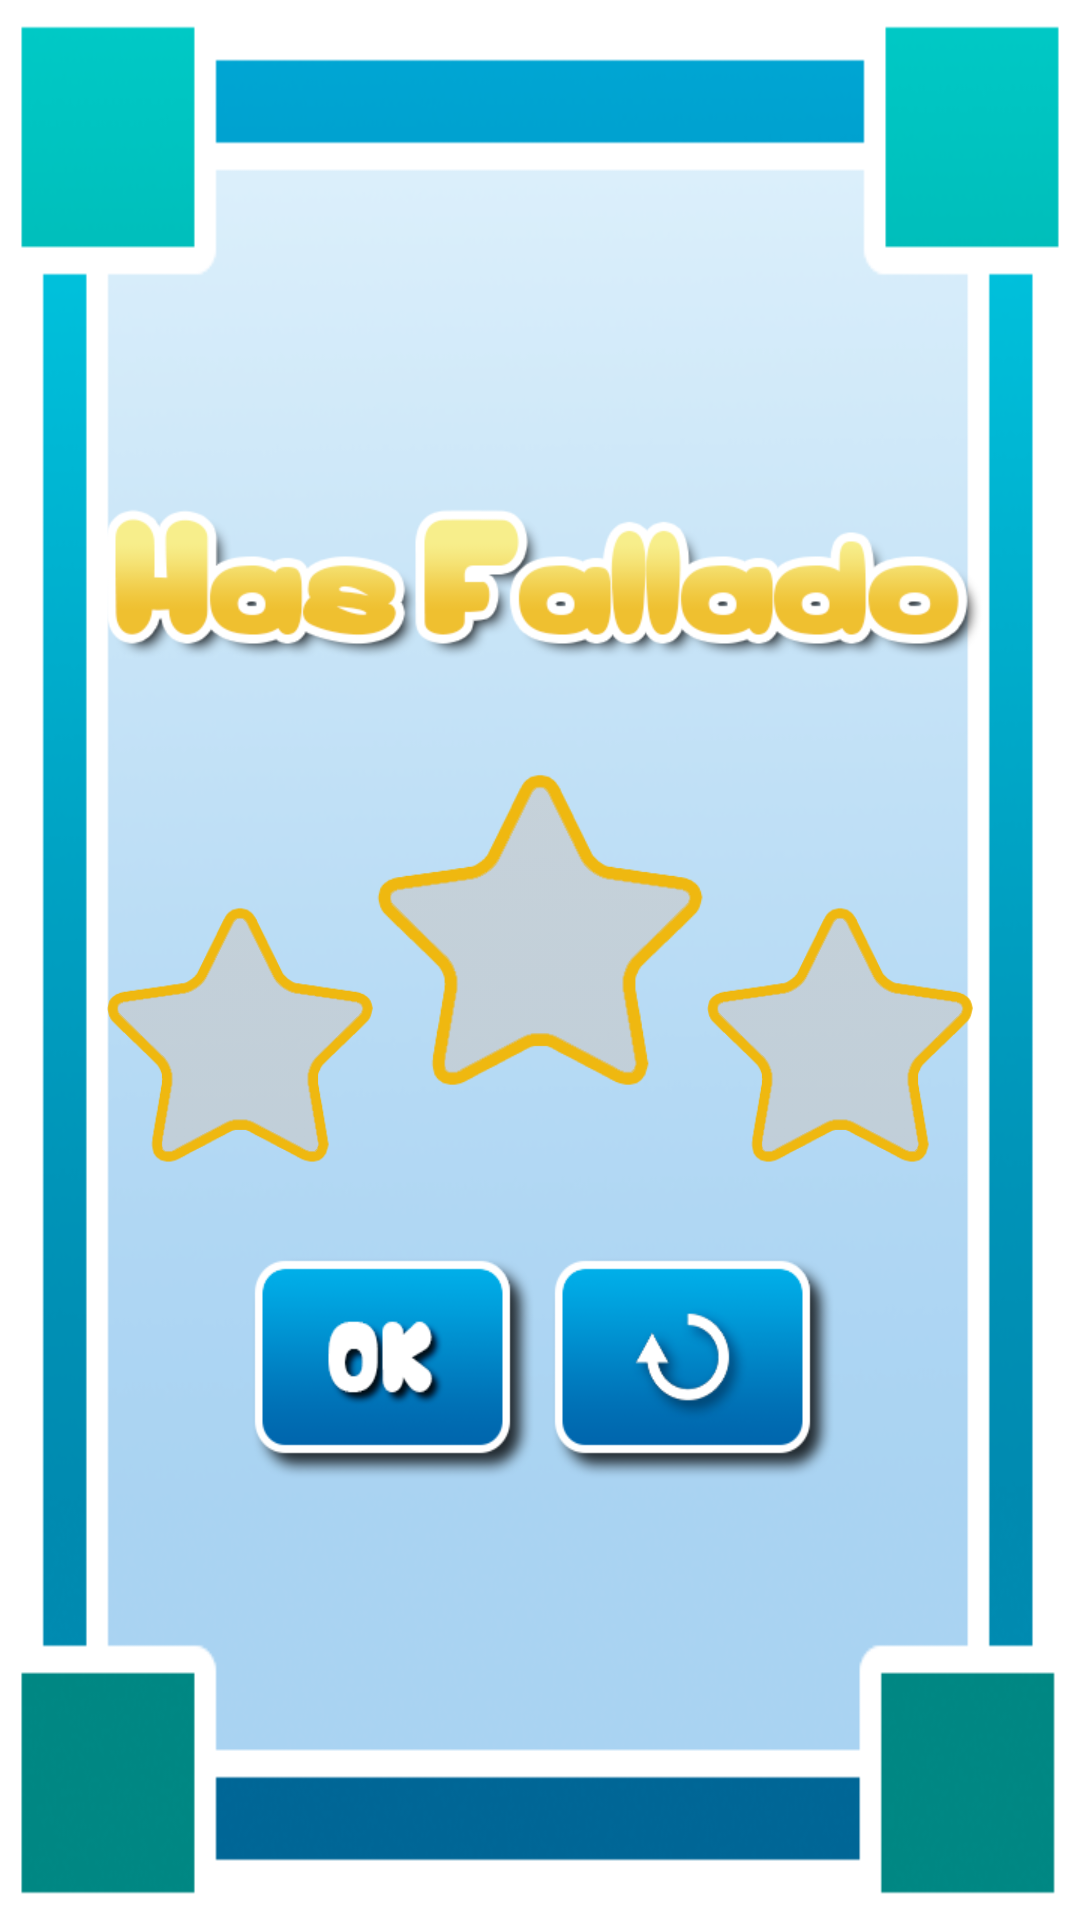

Icon bounding boxes for this 1080 x 1920 phone screenshot, format (x1, y1, x2, y2):
botonretry: (555, 1261, 828, 1472)
stargray: (377, 775, 703, 1085), (105, 900, 373, 1170), (707, 900, 975, 1170)
